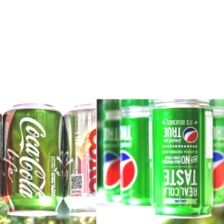can: (150, 97, 215, 218), (4, 101, 64, 215), (116, 104, 160, 212), (63, 100, 97, 217), (101, 105, 125, 208), (210, 106, 224, 210)
